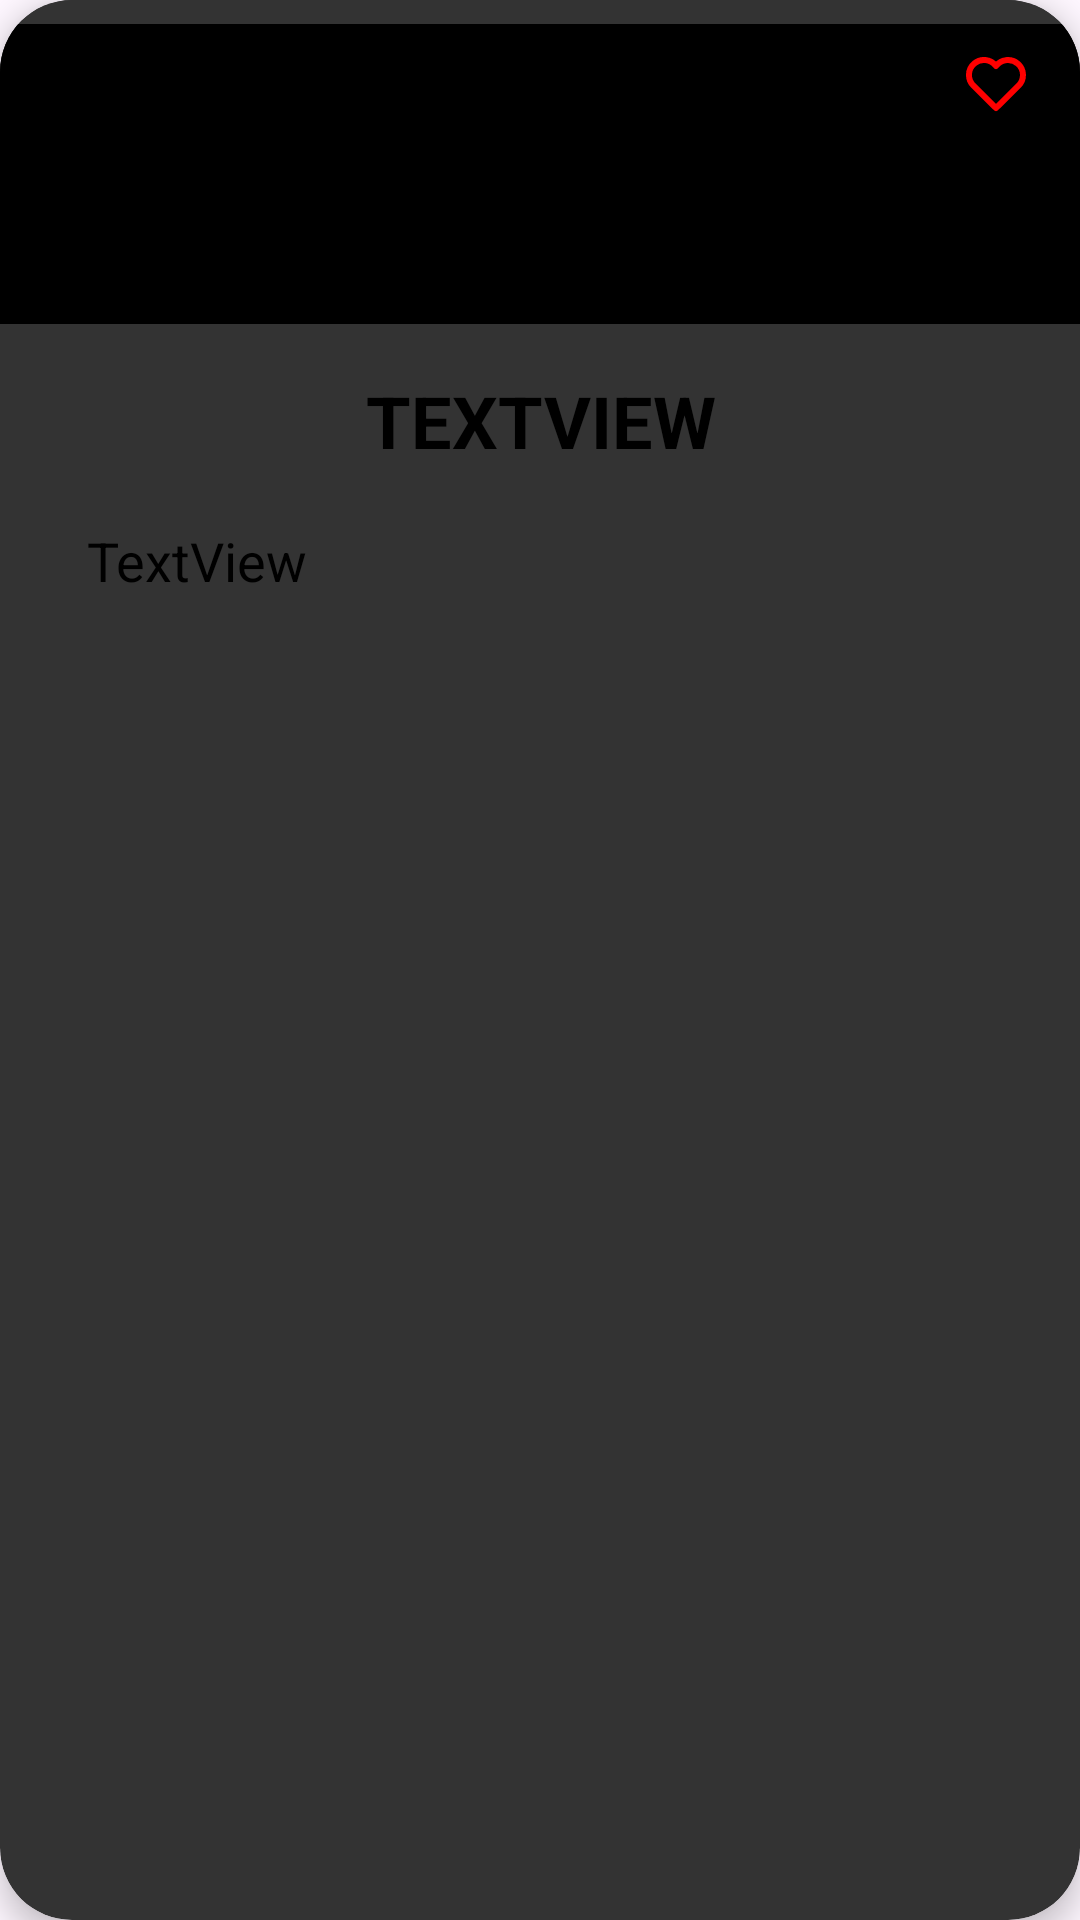

Icons on this 1080px×1920px Android screen, each with the point to tap as (x=x, y=y):
Favorite: (x=996, y=84)
